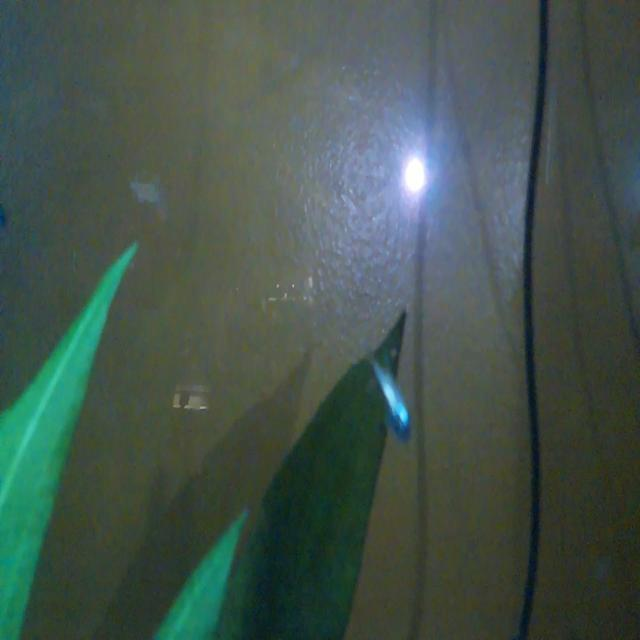fish: (360, 337, 420, 444)
